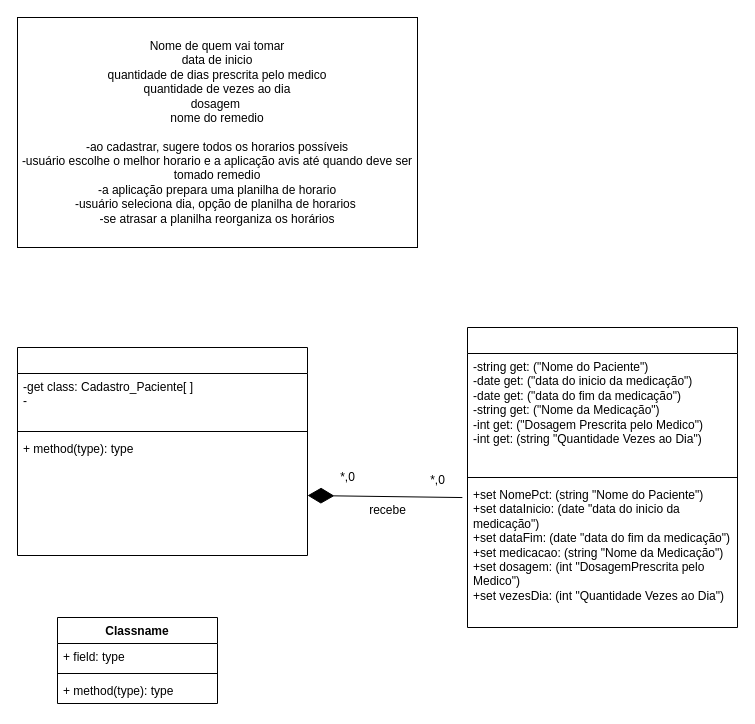
This 755x724 diagram has some shape labels left out. Each missing label, with the box of its shape:
Cadastro_Paciente: (466, 326, 738, 628)
Lista_Remedios_Horarios: (16, 346, 308, 556)
